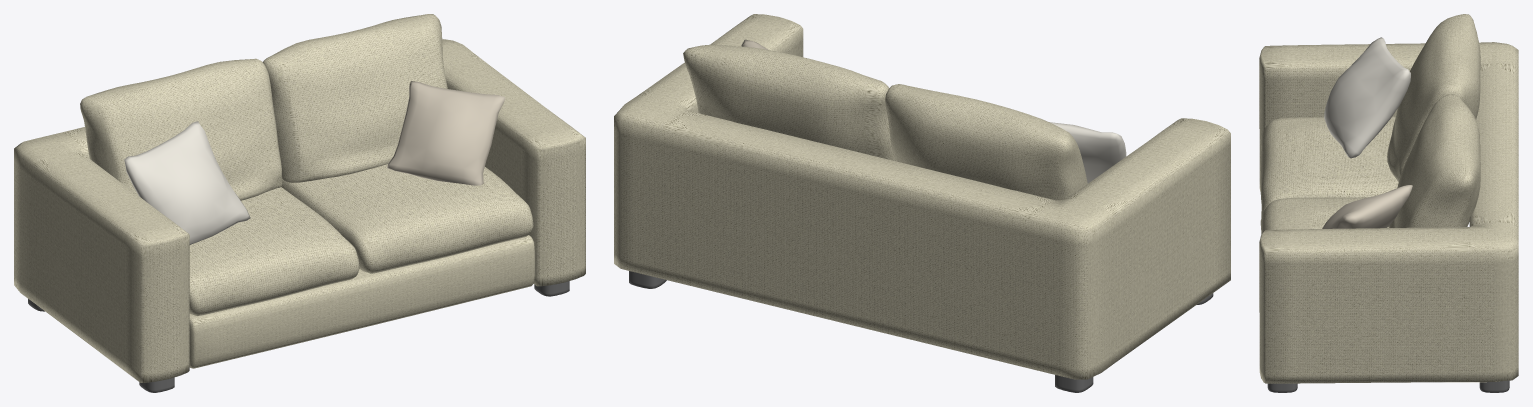
Rendered from burlap_sofa.glb.
The picture shows the model from 3 angles, left to right: view 1: azimuth 30°, elevation 25°; view 2: azimuth 150°, elevation 25°; view 3: azimuth 270°, elevation 25°; orthographic projection. The views are drawn at different scales.
Parts seen in each view (by area): view 1: back_Plane.005, bigcushion2.002_Cube.024, base_Cube.021, bigcushion2_Cube.022, base_big_cushion2_Cube.001, base_big_cushion_Cube, cushion_dark_Cube.018, cushion_clear_Cube.019; view 2: back_Plane.005, bigcushion2.002_Cube.024, bigcushion2_Cube.022, cushion_clear_Cube.019; view 3: back_Plane.005, base_big_cushion_Cube, bigcushion2.002_Cube.024, bigcushion2_Cube.022, cushion_clear_Cube.019, base_big_cushion2_Cube.001, cushion_dark_Cube.018, leg4_Cylinder.014, leg3_Cylinder.011.
Part boxes in pixels (left/top/right/bottom): back_Plane.005: left=14, top=39, right=585, bottom=382; bigcushion2.002_Cube.024: left=263, top=14, right=447, bottom=182; base_Cube.021: left=189, top=235, right=534, bottom=368; bigcushion2_Cube.022: left=80, top=58, right=282, bottom=200; base_big_cushion2_Cube.001: left=281, top=164, right=533, bottom=273; base_big_cushion_Cube: left=189, top=187, right=359, bottom=316; cushion_dark_Cube.018: left=387, top=81, right=505, bottom=185; cushion_clear_Cube.019: left=124, top=121, right=250, bottom=244; back_Plane.005: left=614, top=14, right=1230, bottom=379; bigcushion2.002_Cube.024: left=683, top=44, right=895, bottom=161; bigcushion2_Cube.022: left=885, top=84, right=1087, bottom=200; cushion_clear_Cube.019: left=1049, top=122, right=1126, bottom=183; back_Plane.005: left=1259, top=42, right=1518, bottom=383; base_big_cushion_Cube: left=1260, top=116, right=1398, bottom=217; bigcushion2.002_Cube.024: left=1388, top=94, right=1480, bottom=227; bigcushion2_Cube.022: left=1387, top=14, right=1480, bottom=181; cushion_clear_Cube.019: left=1324, top=37, right=1410, bottom=158; base_big_cushion2_Cube.001: left=1260, top=197, right=1388, bottom=233; cushion_dark_Cube.018: left=1322, top=185, right=1412, bottom=228; leg4_Cylinder.014: left=1479, top=380, right=1509, bottom=392; leg3_Cylinder.011: left=1267, top=383, right=1297, bottom=392.
Bounding box in the file's own units: 1.7 × 0.7976 × 0.8993.
Materials: 4 (1 with a texture image).
